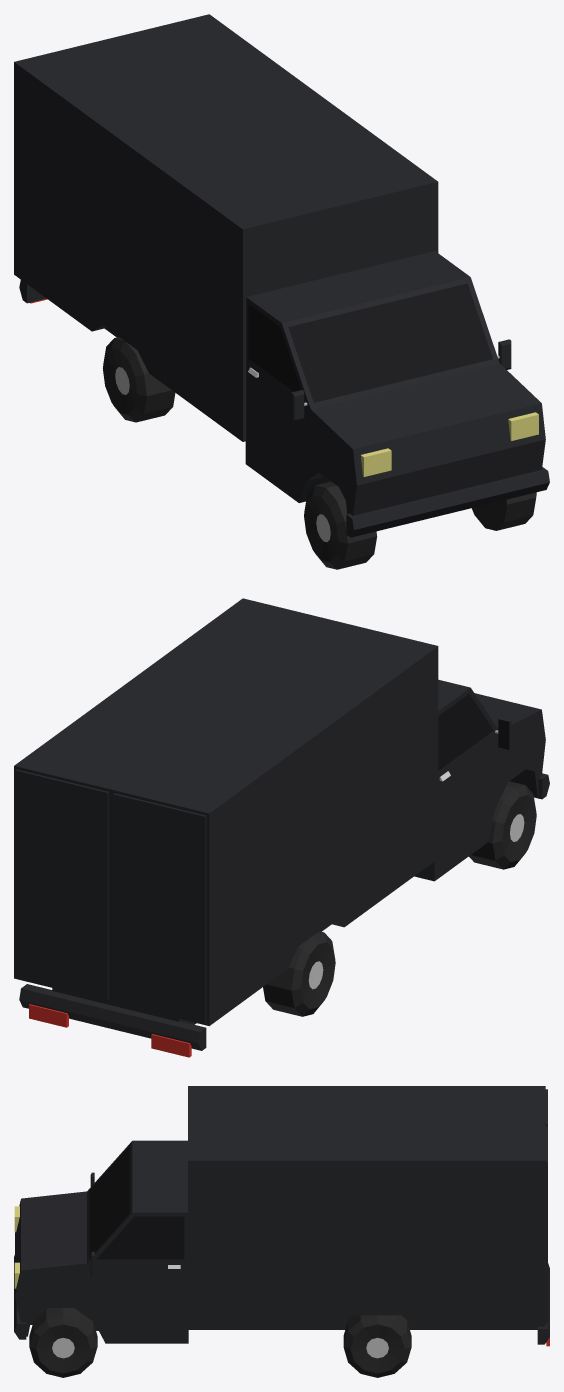
The model's file is Small_Truck_02.fbx.
The picture shows the model from 3 angles, top to bottom: view 1: azimuth 30°, elevation 25°; view 2: azimuth 150°, elevation 25°; view 3: azimuth 270°, elevation 25°; orthographic projection. The views are drawn at different scales.
Parts seen in each view (by area): view 1: Small_Truck_02; view 2: Small_Truck_02; view 3: Small_Truck_02.
Boxes of the visible parts, left/top/right/bottom form: Small_Truck_02: left=14, top=14, right=549, bottom=569; Small_Truck_02: left=14, top=598, right=549, bottom=1057; Small_Truck_02: left=14, top=1086, right=549, bottom=1377.
Size of the model in its own units: 3.19 by 3.91 by 8.68.
